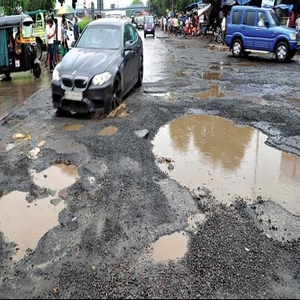pothole: (150, 106, 300, 223), (1, 190, 59, 266), (22, 156, 90, 192), (146, 230, 193, 264), (99, 126, 118, 136), (65, 123, 84, 133)
